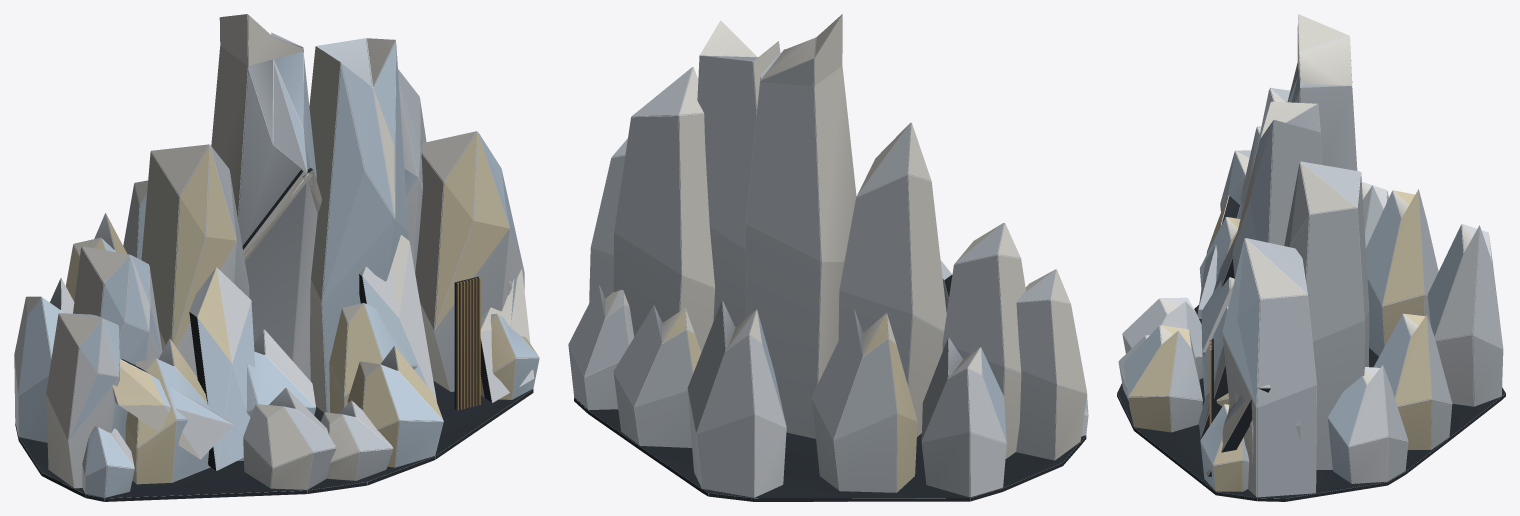
Rendered from projection-crystals-v12.glb.
The picture shows the model from 3 angles, left to right: view 1: azimuth 30°, elevation 25°; view 2: azimuth 150°, elevation 25°; view 3: azimuth 270°, elevation 25°; orthographic projection. The views are drawn at different scales.
Visible parts, largest first — view 1: Projection Crystals | white projected sculpted facade | pale, Projection Crystals | ivory sculpted return, Projection Crystals | white projected sculpted facade, Projection Crystals | mapped amber primary facet, Projection Crystals | crystal brushed silver contrast facet, Projection Crystals | crystal brushed silver facet, Projection Crystals | dark crystal recessed joint, Projection Crystals | crystal champagne gold facet; view 2: Projection Crystals | crystal brushed silver facet, Projection Crystals | ivory sculpted return, Projection Crystals | white projected sculpted facade, Projection Crystals | dark crystal recessed joint, Projection Crystals | mapped amber primary facet, Projection Crystals | white projected sculpted facade | pale; view 3: Projection Crystals | crystal brushed silver facet, Projection Crystals | white projected sculpted facade | pale, Projection Crystals | white projected sculpted facade, Projection Crystals | mapped amber primary facet, Projection Crystals | ivory sculpted return, Projection Crystals | dark crystal recessed joint.
Boxes of the visible parts, x1,y1,x2,y2 form: Projection Crystals | white projected sculpted facade | pale: (18,42,539,497); Projection Crystals | ivory sculpted return: (26,14,533,489); Projection Crystals | white projected sculpted facade: (14,14,539,501); Projection Crystals | mapped amber primary facet: (66,133,538,483); Projection Crystals | crystal brushed silver contrast facet: (238,59,306,360); Projection Crystals | crystal brushed silver facet: (50,32,509,489); Projection Crystals | dark crystal recessed joint: (15,168,533,501); Projection Crystals | crystal champagne gold facet: (457,277,480,410); Projection Crystals | crystal brushed silver facet: (568,50,1056,497); Projection Crystals | ivory sculpted return: (606,14,1086,459); Projection Crystals | white projected sculpted facade: (568,14,1088,501); Projection Crystals | dark crystal recessed joint: (574,275,1086,501); Projection Crystals | mapped amber primary facet: (663,308,917,491); Projection Crystals | white projected sculpted facade | pale: (757,312,1088,441); Projection Crystals | crystal brushed silver facet: (1118,53,1502,496); Projection Crystals | white projected sculpted facade | pale: (1124,74,1463,490); Projection Crystals | white projected sculpted facade: (1117,15,1504,501); Projection Crystals | mapped amber primary facet: (1129,190,1431,491); Projection Crystals | ivory sculpted return: (1146,14,1472,474); Projection Crystals | dark crystal recessed joint: (1117,196,1505,501).
Bounding box in the file's own units: 4.3 × 3.54 × 3.35.
